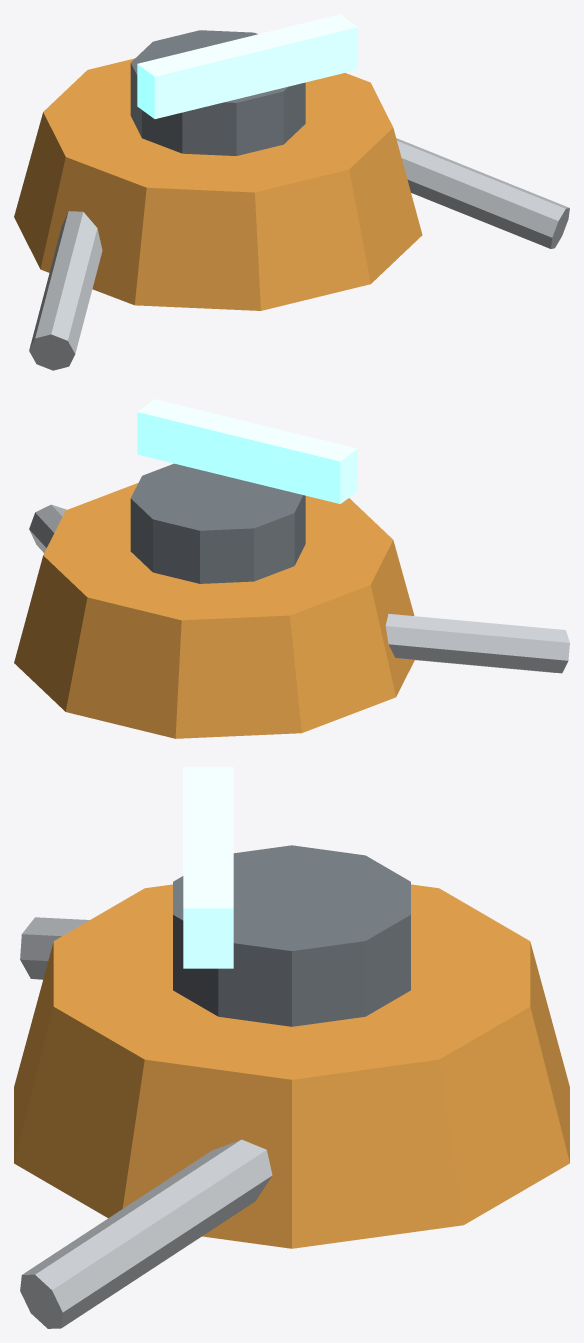
Rendered from mech-hangar-and-battle-frames-repair-drone-4ab66e64__26989.glb.
3 renders of one model, top to bottom at view 1: azimuth 30°, elevation 25°; view 2: azimuth 150°, elevation 25°; view 3: azimuth 270°, elevation 25°, orthographic. The views are drawn at different scales.
Visible parts, largest first — view 1: repair-drone; view 2: repair-drone; view 3: repair-drone.
Part boxes in pixels (x1,y1,x2,y2): repair-drone: (14,14,569,370); repair-drone: (14,399,569,738); repair-drone: (14,767,569,1328).
Size of the model in its own units: 1.06 by 0.4188 by 0.6657.
